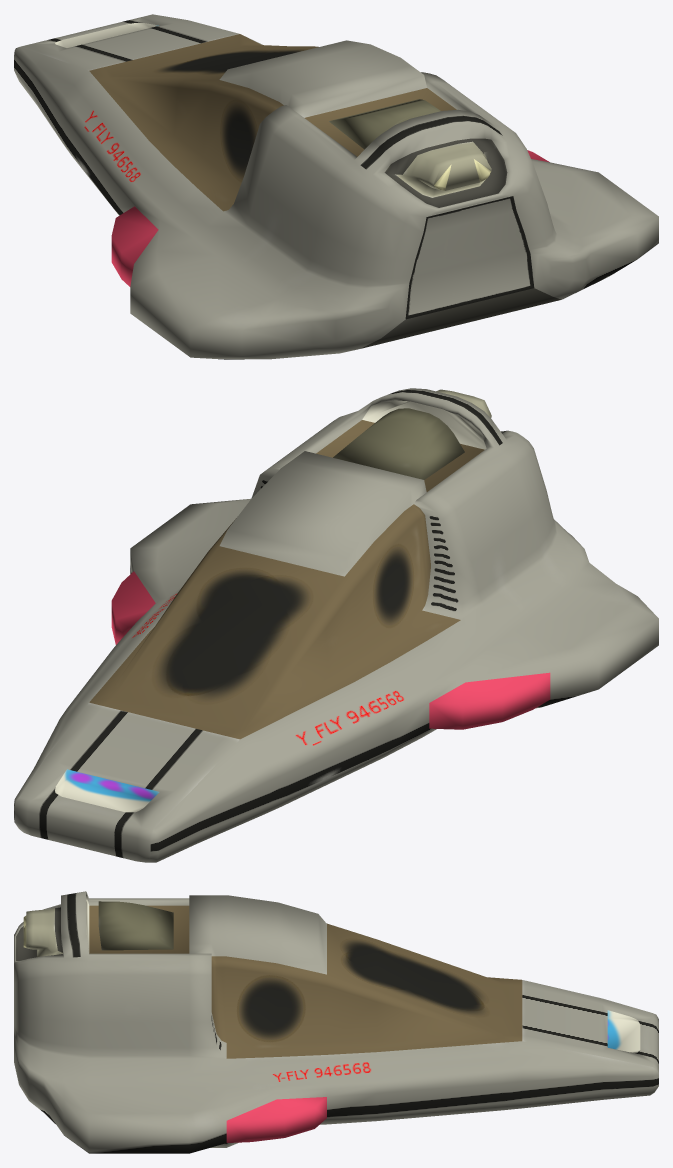
Rendered from spaceship_0.fbx.
3 views of the same model, one above another, from view 1: azimuth 30°, elevation 25°; view 2: azimuth 150°, elevation 25°; view 3: azimuth 270°, elevation 25° (orthographic). The views are drawn at different scales.
Parts seen in each view (by area): view 1: Plane; view 2: Plane; view 3: Plane.
Boxes of the visible parts, left/top/right/bottom form: Plane: left=14, top=14, right=658, bottom=359; Plane: left=14, top=388, right=658, bottom=862; Plane: left=14, top=891, right=658, bottom=1153.
Size of the model in its own units: 8.98 by 3.73 by 12.87.
Materials: 1 (1 with a texture image).
